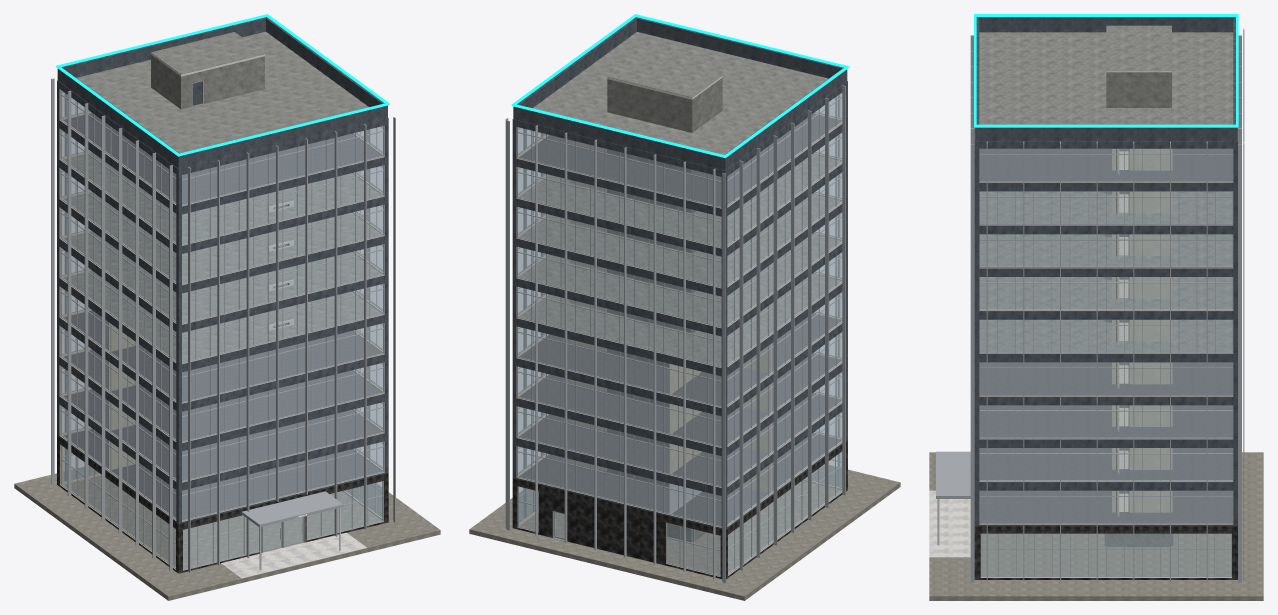
Rendered from b_office_glass_tower.gltf.
The picture shows the model from 3 angles, left to right: view 1: azimuth 30°, elevation 25°; view 2: azimuth 150°, elevation 25°; view 3: azimuth 270°, elevation 25°; orthographic projection. The views are drawn at different scales.
Parts seen in each view (by area): view 1: S_office_glass_tower; view 2: S_office_glass_tower; view 3: S_office_glass_tower.
Boxes of the visible parts, x1,y1,x2,y2 form: S_office_glass_tower: [14, 14, 440, 600]; S_office_glass_tower: [469, 14, 900, 600]; S_office_glass_tower: [929, 14, 1263, 600].
Bounding box in the file's own units: 26 × 40.5 × 25.5.
Materials: 24 (11 with a texture image).
